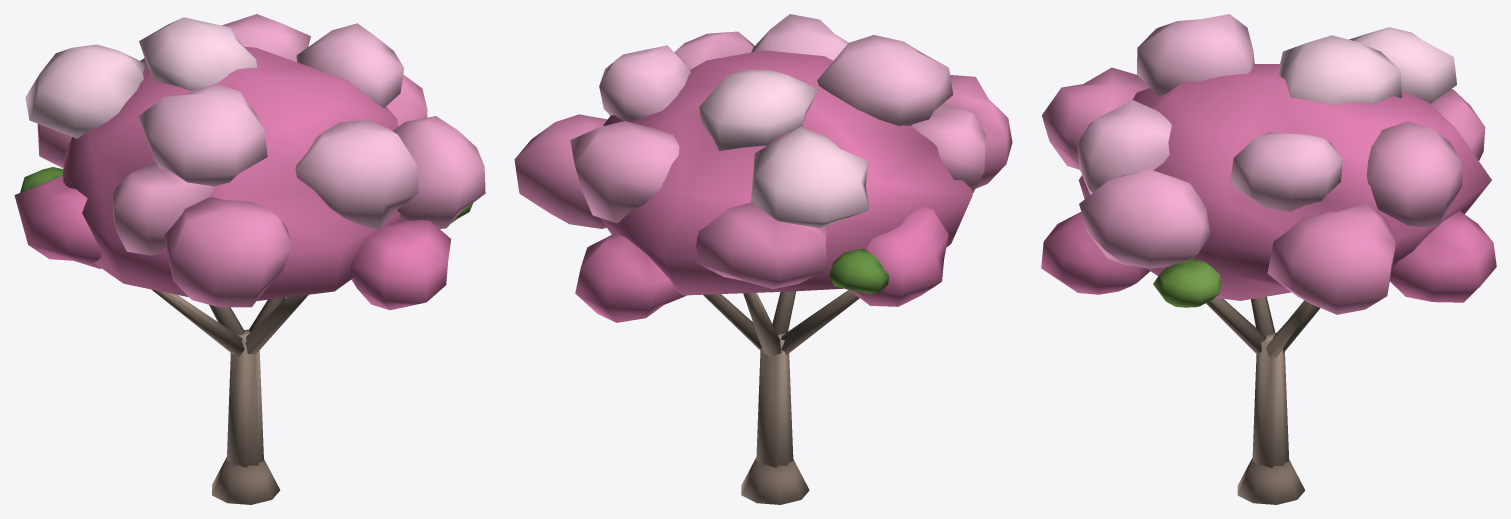
The model's file is cherry.glb.
The picture shows the model from 3 angles, left to right: view 1: azimuth 30°, elevation 25°; view 2: azimuth 150°, elevation 25°; view 3: azimuth 270°, elevation 25°; orthographic projection.
Visible parts, largest first — view 1: cherry; view 2: cherry; view 3: cherry.
Part boxes in pixels (box(x1,y1,x2,y2)): cherry: box(14, 14, 485, 504); cherry: box(514, 14, 1012, 504); cherry: box(1041, 14, 1496, 504).
Bounding box in the file's own units: 5.25 × 5.45 × 5.14.
